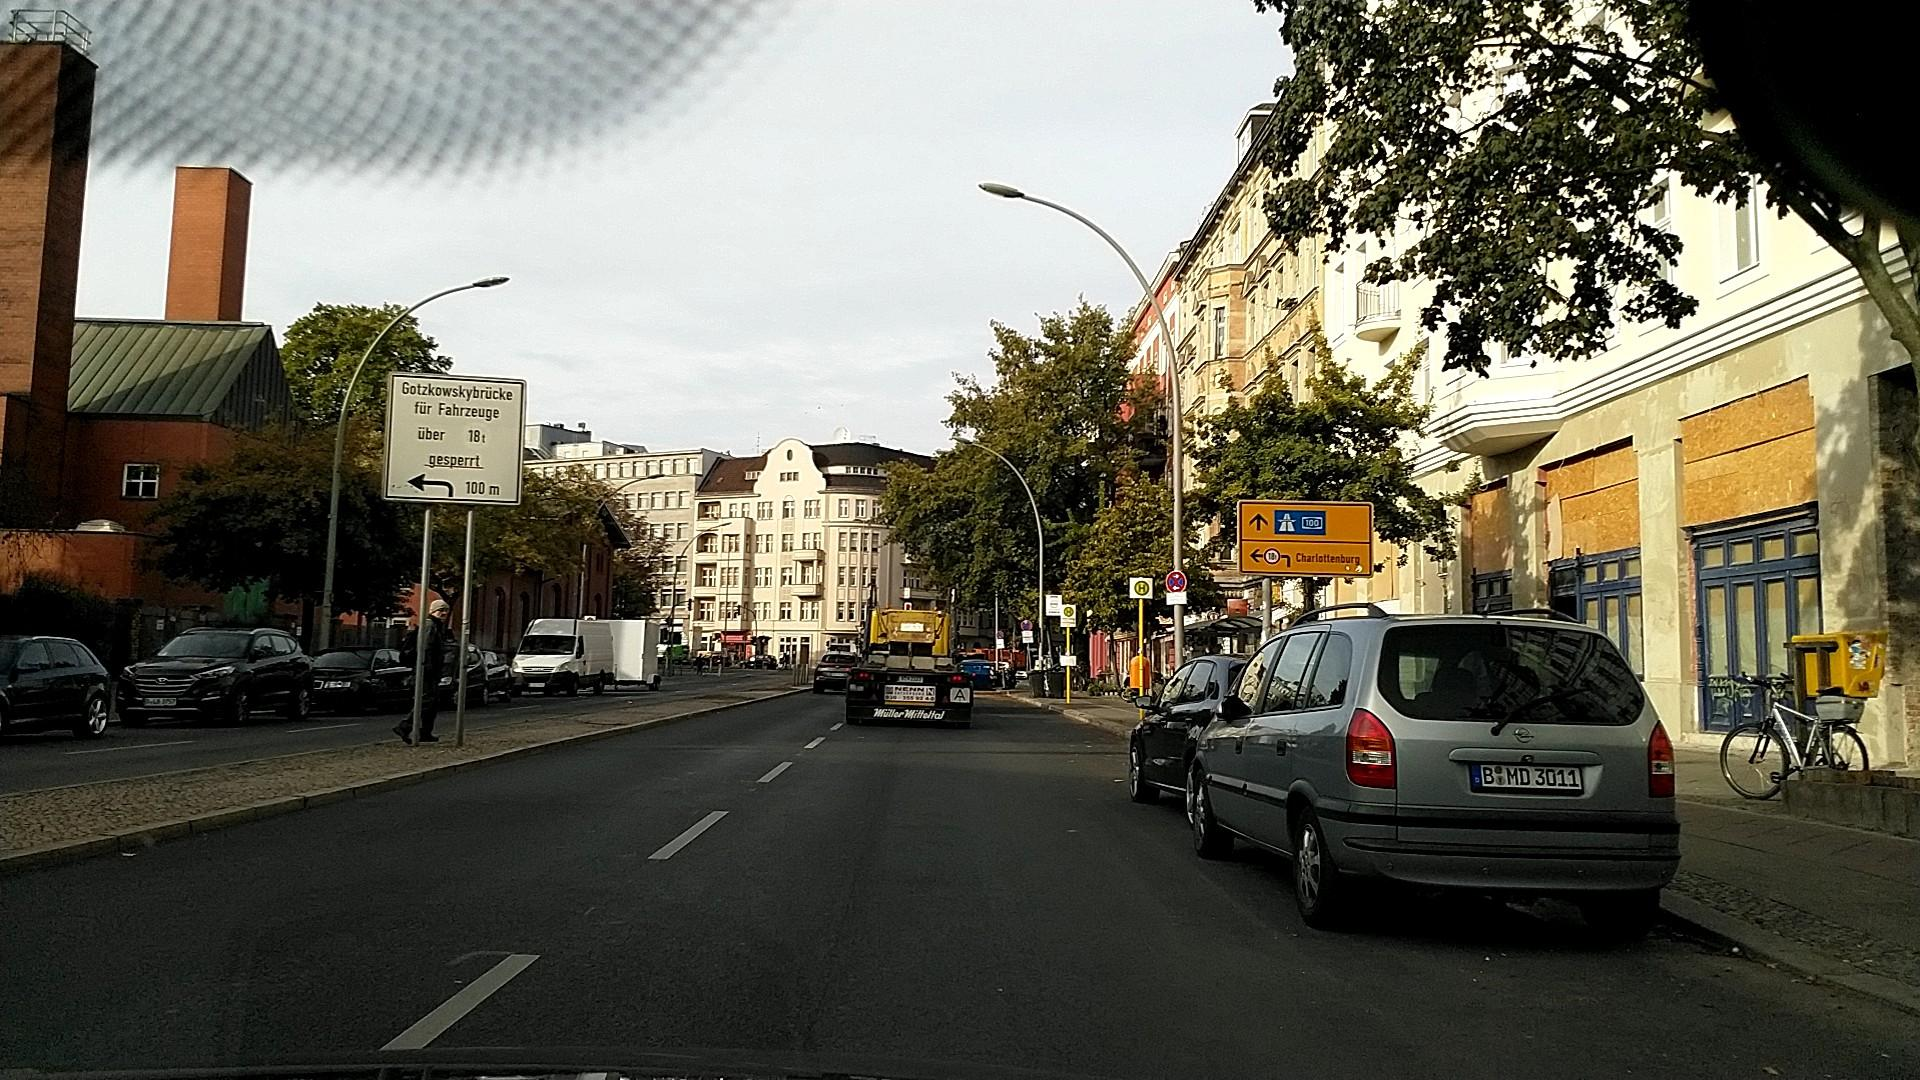Human face: (431, 604, 450, 622)
Vehicle registration plate: (1471, 761, 1582, 793), (143, 698, 175, 707), (896, 674, 923, 684), (528, 683, 545, 687)
